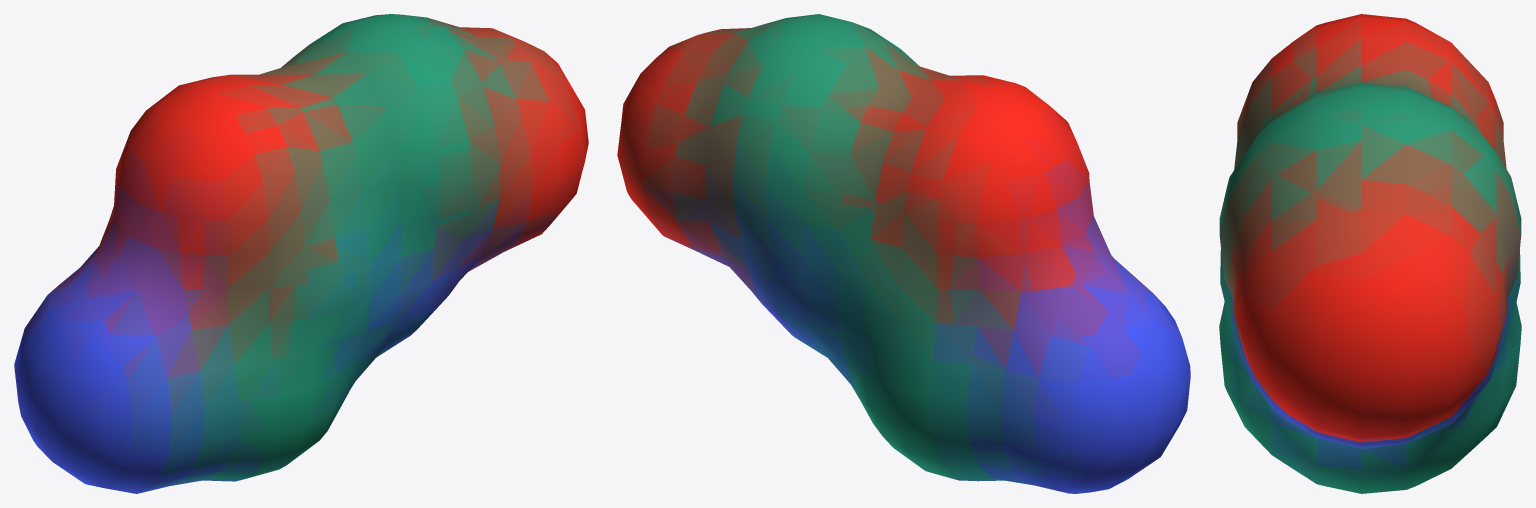
The model's file is viewer-surface-smoothing.obj.
3 views of the same model, side by side, from view 1: azimuth 30°, elevation 25°; view 2: azimuth 150°, elevation 25°; view 3: azimuth 270°, elevation 25° (orthographic). The views are drawn at different scales.
Bounding box in the file's own units: 8.31 × 5.86 × 3.37.
